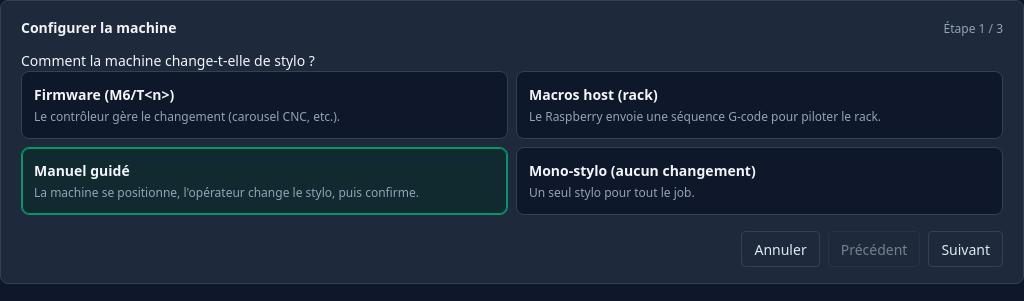
Scenario: CapabilityWizard › blocks advance from host_macro details until at least one step has a non-empty send
The image size is (1024, 301).
Click the button with test id "cap-mode-host_macro". click: x=593, y=94
box: [516,71,1003,139]
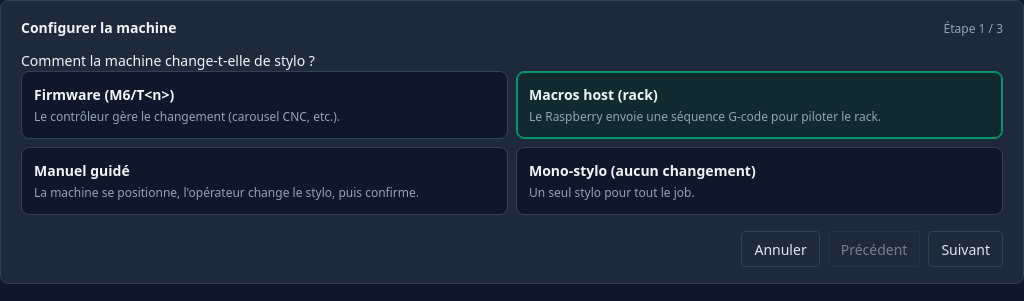
Click the button with test id "cap-next". click: x=966, y=249
box: [928,231,1003,267]
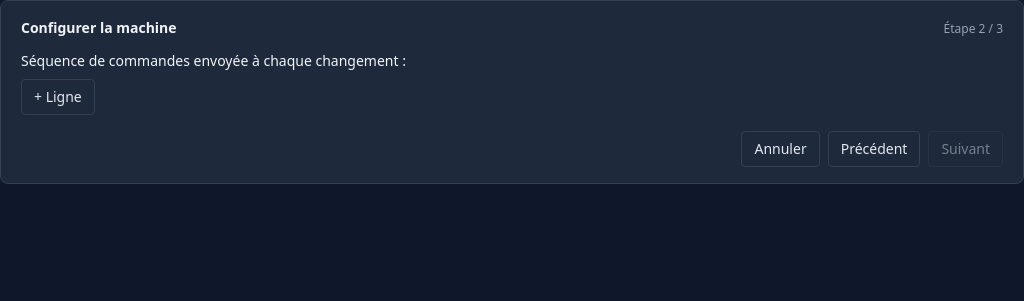
Click the button with test id "cap-macro-add". click: x=58, y=97
box: [21,79,95,115]
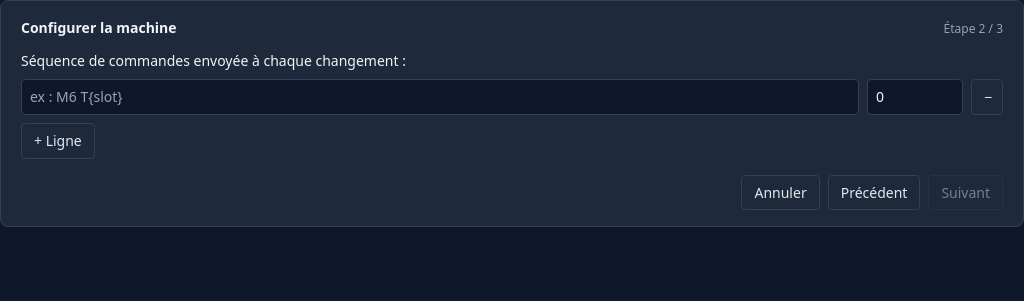
Expected: the button with test id "cap-next" is disabled, [928,175,1003,210]
Type "M6" into the field with test id "cap-macro-send-0". click: x=440, y=97
box: [21,79,859,115]
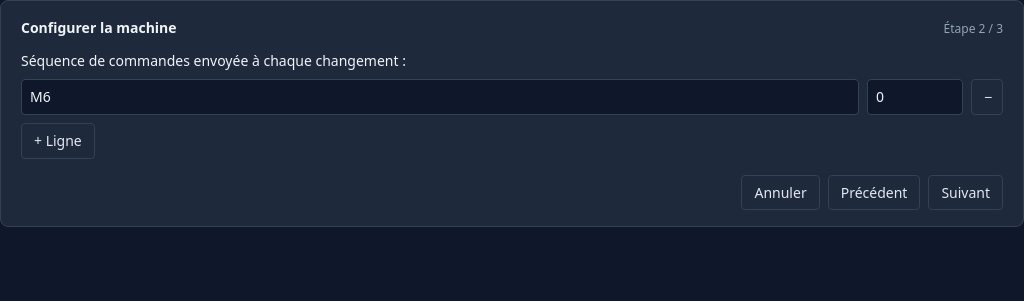
Expected: the button with test id "cap-next" is enabled, [928,175,1003,210]
